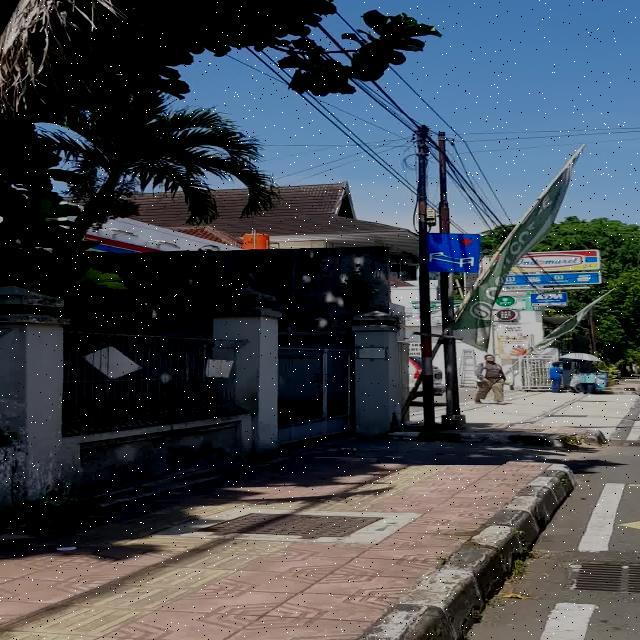Rumah Sakit: (427, 233, 480, 273)
